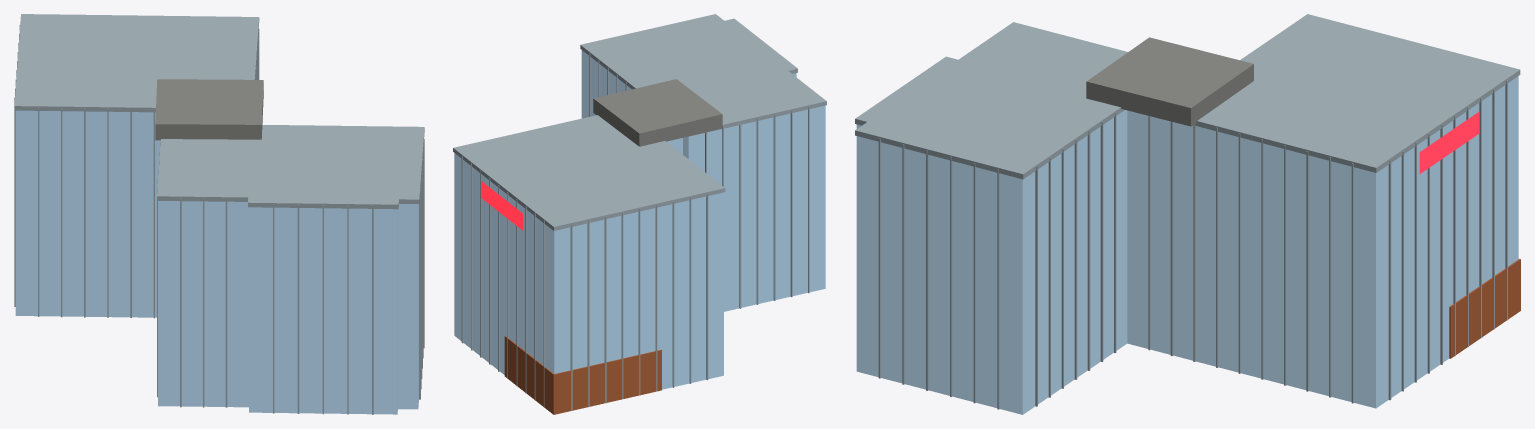
File: top_city.glb
The picture shows the model from 3 angles, left to right: view 1: azimuth 30°, elevation 25°; view 2: azimuth 150°, elevation 25°; view 3: azimuth 270°, elevation 25°; orthographic projection. The views are drawn at different scales.
Parts seen in each view (by area): view 1: body_glass_box, body_top_parapet, body_vertical_mullions, roof_mech_box; view 2: body_glass_box, body_top_parapet, body_vertical_mullions, base_brick_corner, roof_mech_box, sign:Top City; view 3: body_glass_box, body_top_parapet, body_vertical_mullions, roof_mech_box, base_brick_corner, sign:Top City.
Part boxes in pixels (x1=…): body_glass_box: x1=15, y1=110, x2=418, y2=414; body_top_parapet: x1=14, y1=14, x2=424, y2=209; body_vertical_mullions: x1=14, y1=25, x2=424, y2=414; roof_mech_box: x1=155, y1=79, x2=263, y2=140; body_glass_box: x1=454, y1=50, x2=825, y2=389; body_top_parapet: x1=453, y1=14, x2=826, y2=230; body_vertical_mullions: x1=461, y1=53, x2=809, y2=410; base_brick_corner: x1=504, y1=336, x2=661, y2=414; roof_mech_box: x1=593, y1=79, x2=722, y2=146; sign:Top City: x1=481, y1=181, x2=523, y2=230; body_glass_box: x1=856, y1=76, x2=1518, y2=414; body_top_parapet: x1=855, y1=14, x2=1520, y2=179; body_vertical_mullions: x1=878, y1=80, x2=1507, y2=409; roof_mech_box: x1=1086, y1=37, x2=1253, y2=126; base_brick_corner: x1=1449, y1=259, x2=1520, y2=358; sign:Top City: x1=1419, y1=111, x2=1479, y2=173.
Size of the model in its own units: 93.17 by 70 by 164.
